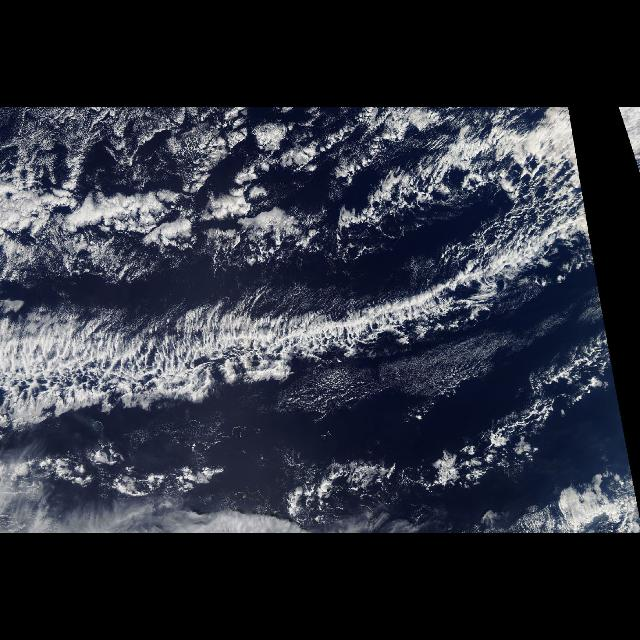Fish: (2, 190, 604, 440)
Flower: (2, 148, 314, 258), (505, 471, 639, 534)
Gravel: (497, 335, 619, 427), (260, 458, 412, 520), (413, 429, 539, 491)
Sugar: (285, 312, 617, 438), (6, 237, 310, 305), (3, 109, 211, 179)
